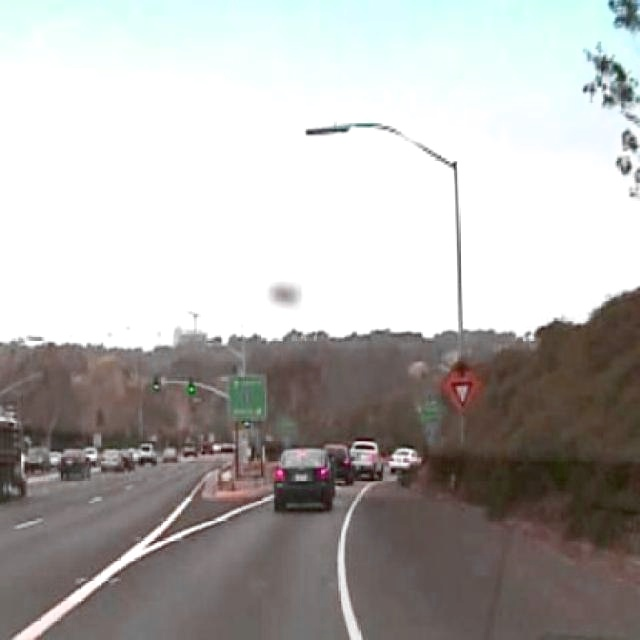yieldAhead: (440, 355, 482, 414)
